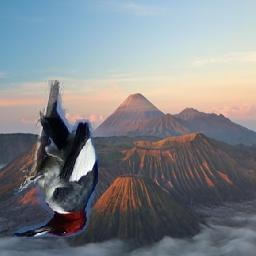Woodpecker: (14, 80, 98, 238)
